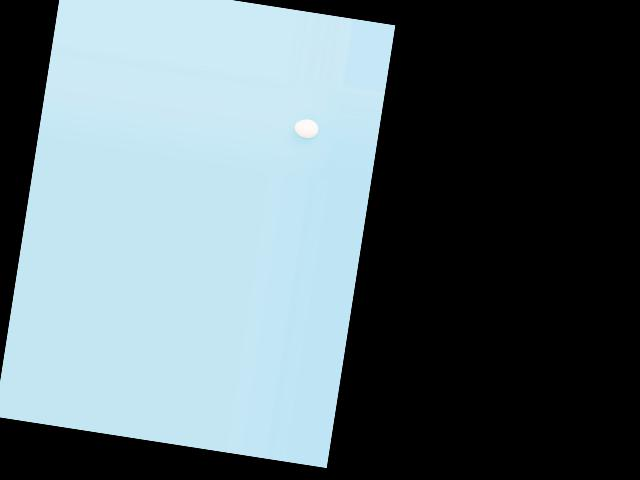egg: (292, 117, 320, 139)
